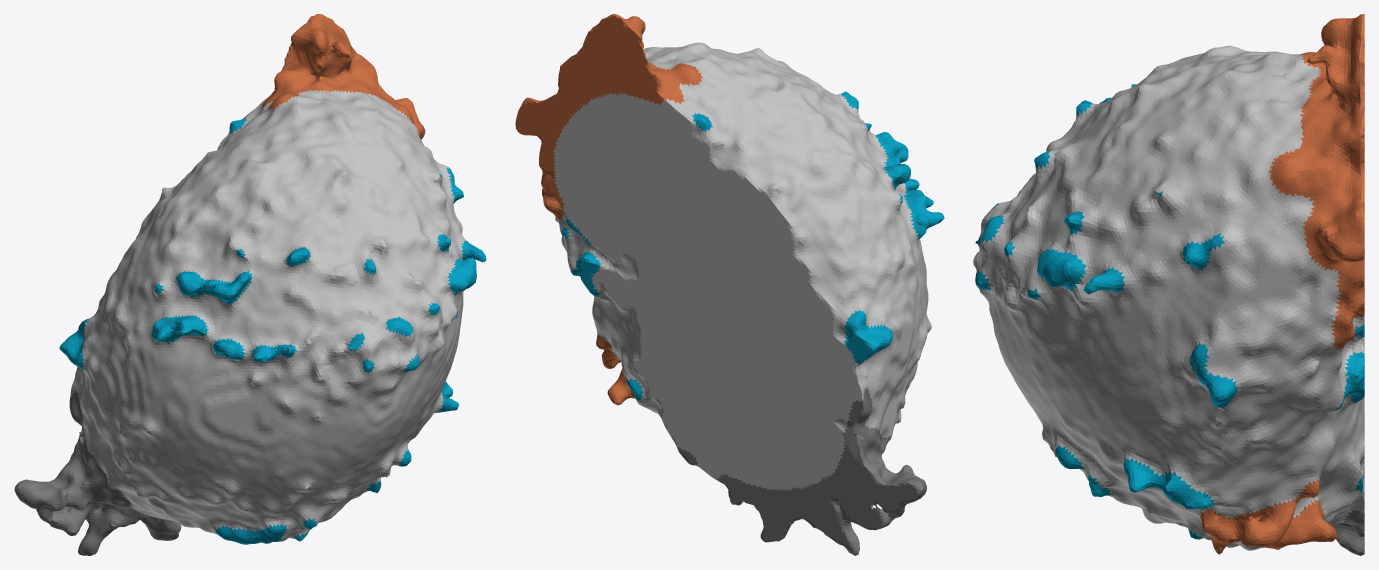
3 views of the same model, side by side, from view 1: azimuth 30°, elevation 25°; view 2: azimuth 150°, elevation 25°; view 3: azimuth 270°, elevation 25° (orthographic). The views are drawn at different scales.
Bounding box in the file's own units: 115 × 132 × 73.95.
